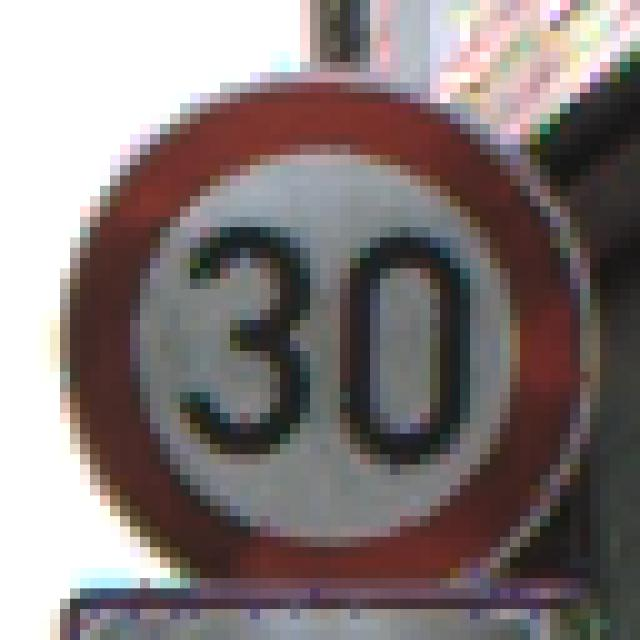Speed Limit -30-: (45, 57, 585, 583)
